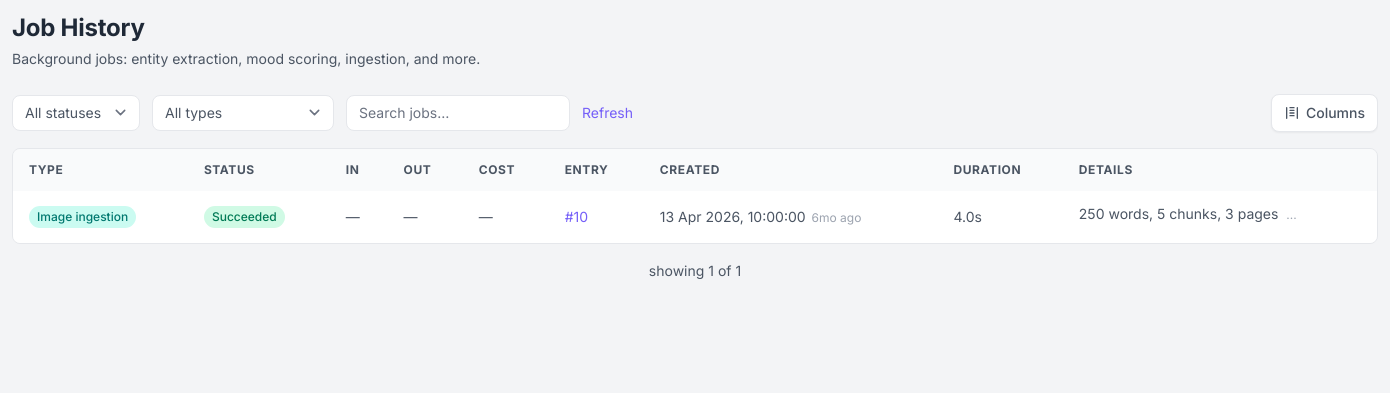
Test case: JobHistoryView › expands details and hides internal keys
Click to expand
Click the button with test id "job-details-toggle-j-1": point(1220, 214) [1079,203,1361,225]
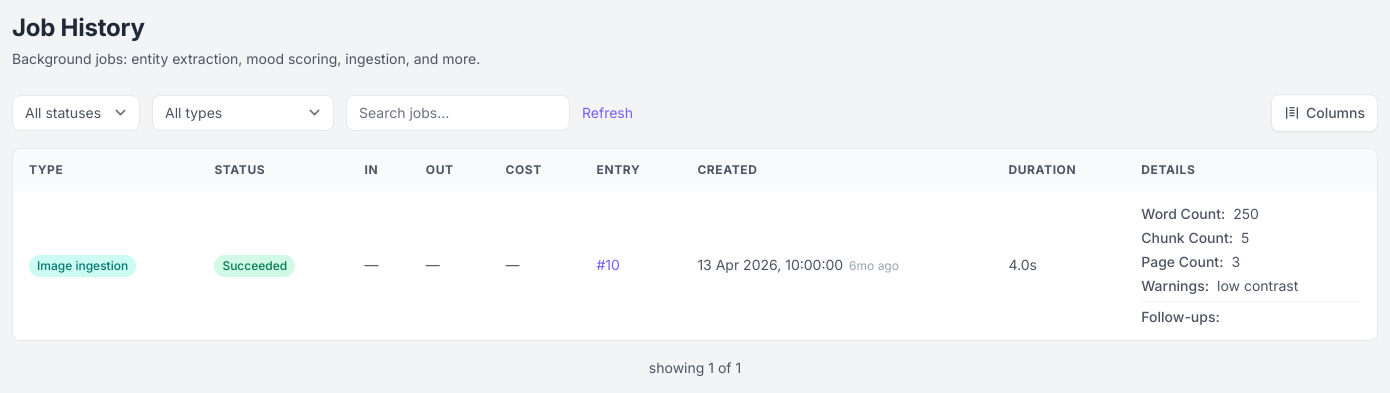
Expected: the element with test id "expanded-details" is shown, [1141,203,1361,328]
Expected: the element with test id "expanded-details" shows "Word Count", [1141,205,1225,222]
Expected: the element with test id "expanded-details" shows "Chunk Count", [1141,229,1233,246]
